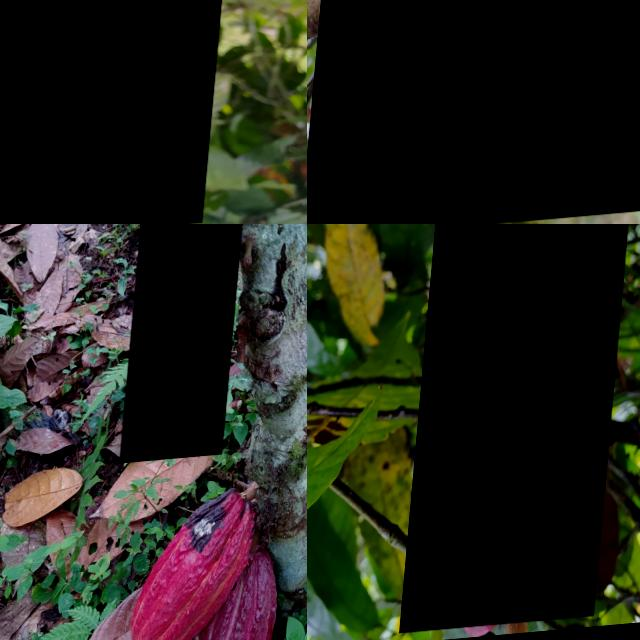Fitoftora: (308, 0, 640, 224), (0, 0, 247, 224)
Monilia: (410, 224, 640, 638), (136, 492, 265, 640)
Sana: (126, 224, 250, 468), (197, 553, 288, 640)
